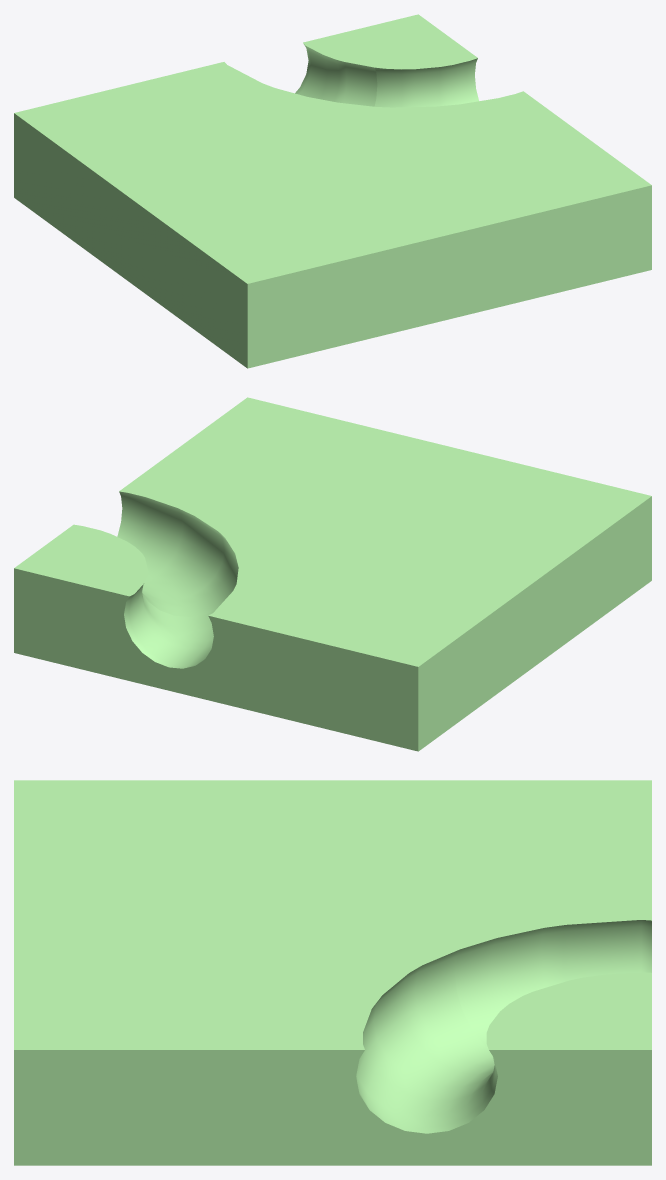
File: base_sol.fbx
3 renders of one model, top to bottom at view 1: azimuth 30°, elevation 25°; view 2: azimuth 150°, elevation 25°; view 3: azimuth 270°, elevation 25°, orthographic. The views are drawn at different scales.
Visible parts, largest first — view 1: base_sol; view 2: base_sol; view 3: base_sol.
Part boxes in pixels (bbox=[...]): base_sol: bbox=[14, 14, 651, 368]; base_sol: bbox=[14, 397, 651, 751]; base_sol: bbox=[14, 780, 651, 1165].
Bounding box in the file's own units: 2000 × 400 × 2000.
